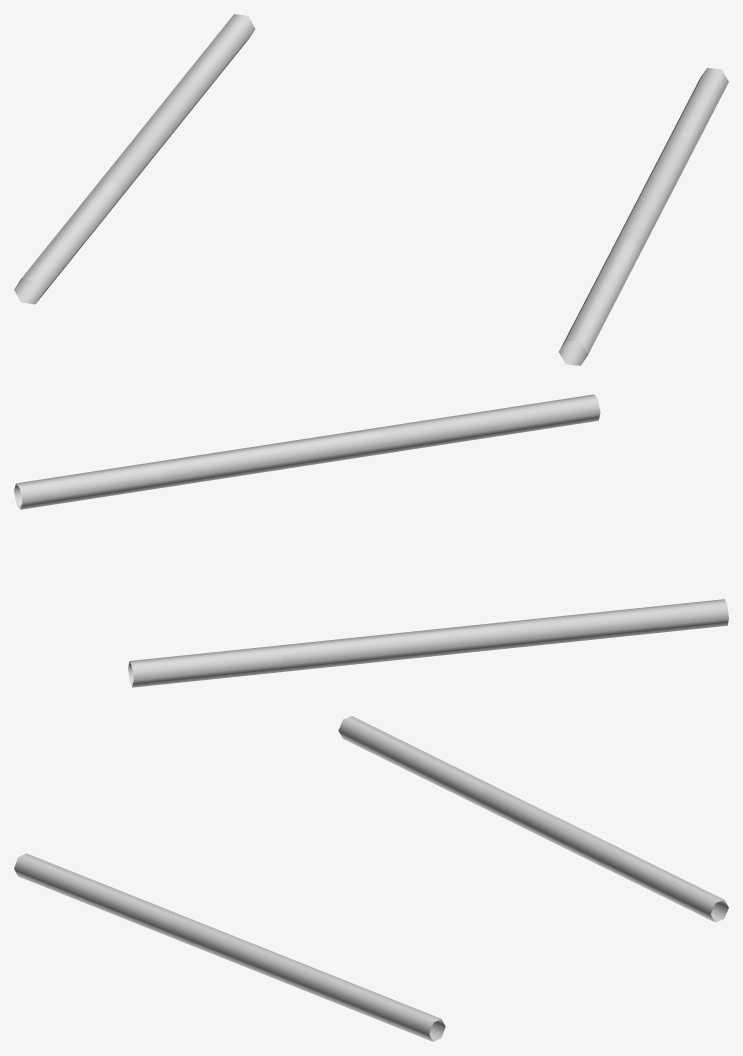
File: nycsignalarm_diagonal8_c4.obj
The picture shows the model from 3 angles, top to bottom: view 1: azimuth 30°, elevation 25°; view 2: azimuth 150°, elevation 25°; view 3: azimuth 270°, elevation 25°; orthographic projection. The views are drawn at different scales.
Visible parts, largest first — view 1: nycsignalarm_diagonal8_c4; view 2: nycsignalarm_diagonal8_c4; view 3: nycsignalarm_diagonal8_c4.
Part boxes in pixels (x1,y1,x2,y2): nycsignalarm_diagonal8_c4: [14, 14, 728, 365]; nycsignalarm_diagonal8_c4: [14, 394, 728, 687]; nycsignalarm_diagonal8_c4: [14, 716, 728, 1041].
Bounding box in the file's own units: 1.82 × 0.0773 × 1.82.
